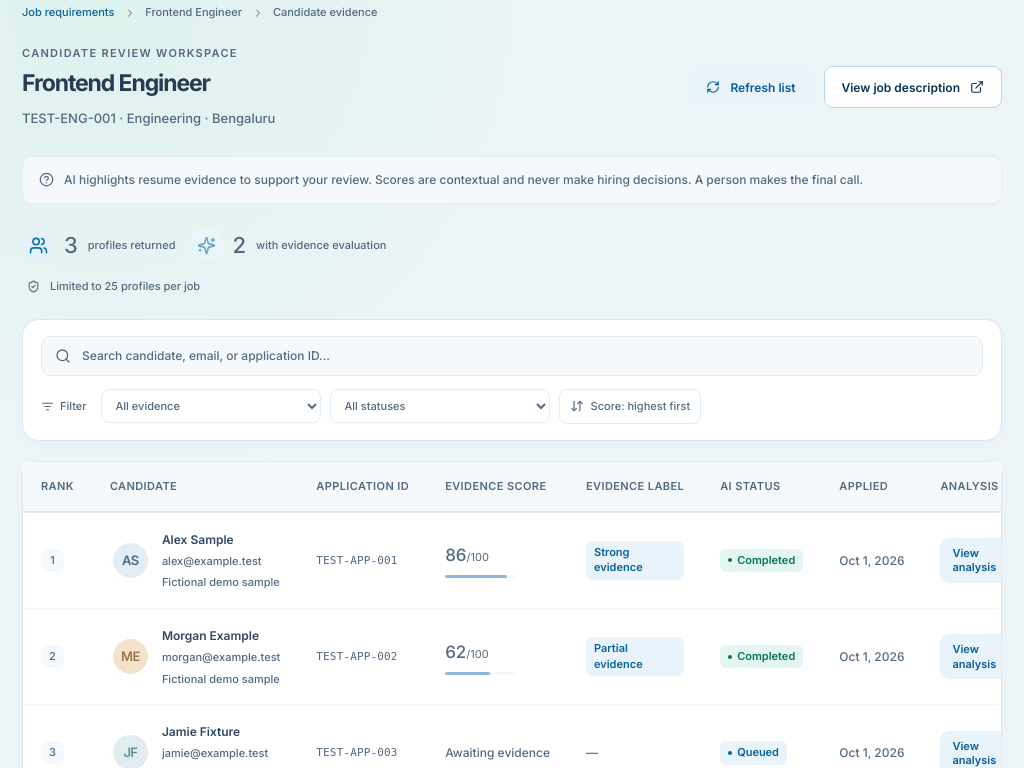
Test: job-scoped candidate ranking › combines candidate search with evidence-label and processing filters
The width and height of the screenshot is (1024, 768).
Expected: the link "Alex Sample" is shown, [162,532,234,547]
Type "morgan@example.test" into the field named "Search candidates" at (526, 356), box [82,346,969,365]
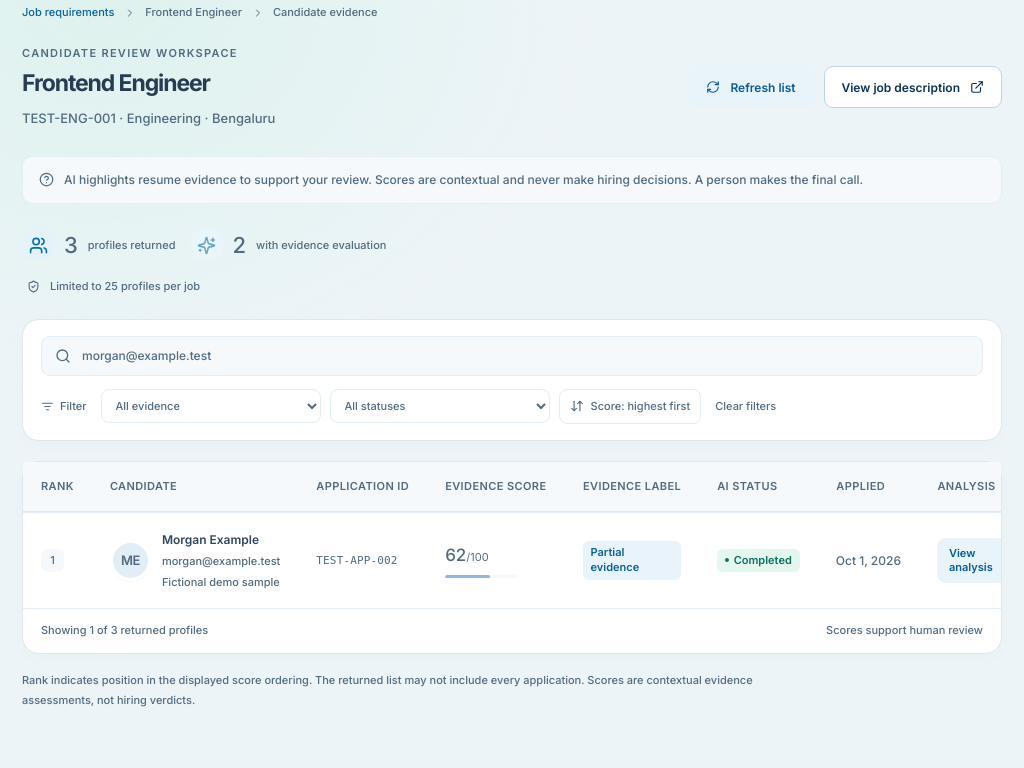
Select "Partial evidence" in the dropdown named "Filter match label" at (210, 406), box [100,389,320,423]
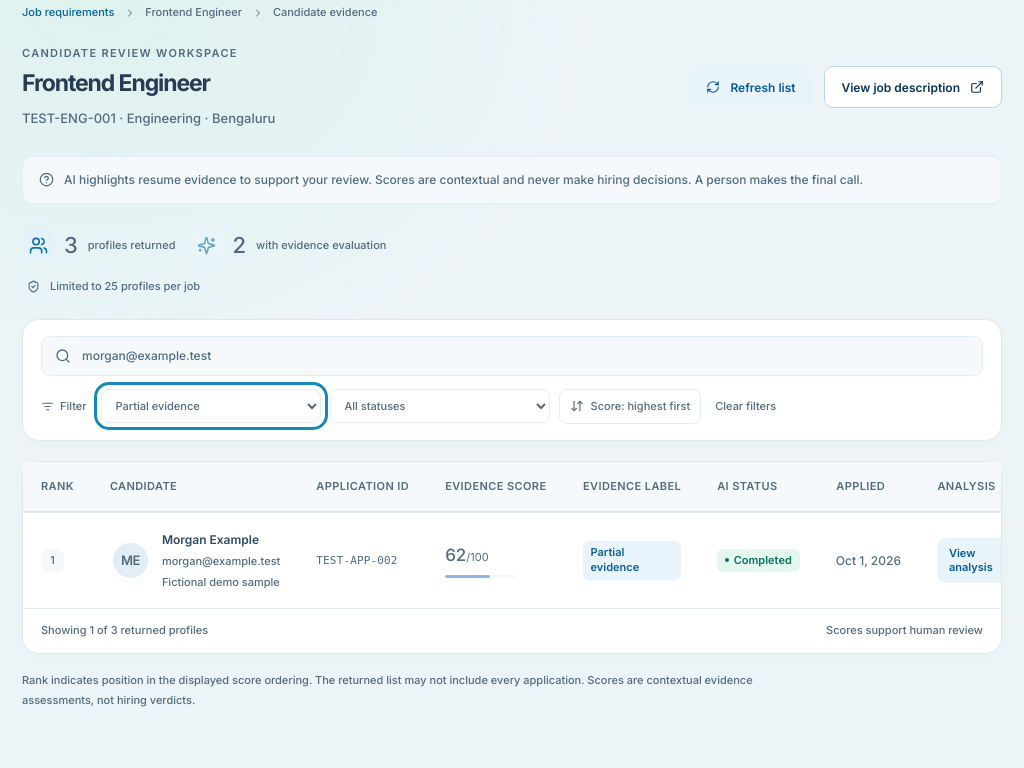
Select "completed" in the dropdown named "Filter AI status" at (440, 406), box [330,389,550,423]
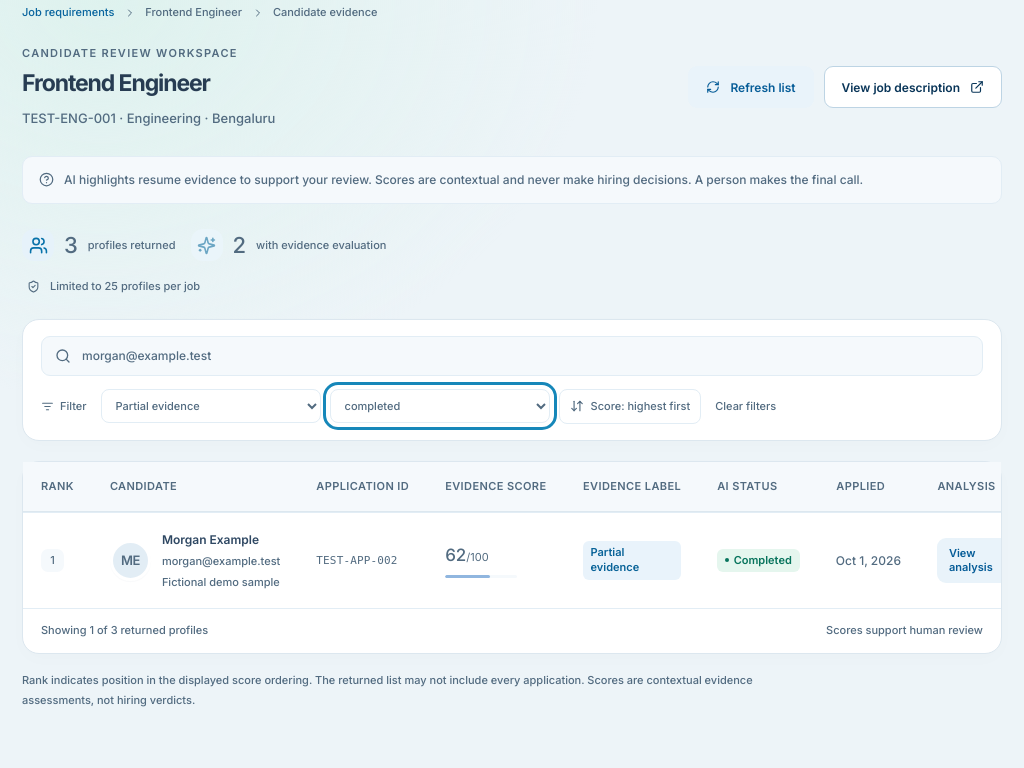
Expected: the link "Morgan Example" is shown, [162,532,259,547]
Result: the text "Showing 1 of 3 returned profiles" is shown at [41,622,208,640]
Select "queued" in the dropdown named "Filter AI status" at (440, 406), box [330,389,550,423]
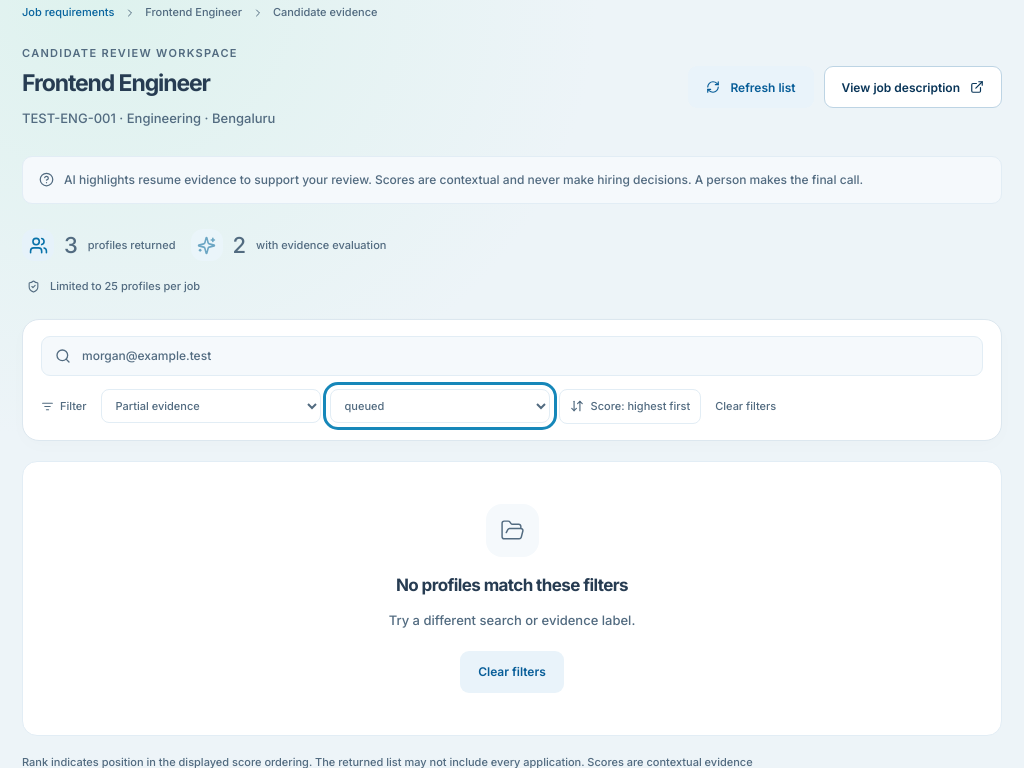
Result: the heading "No profiles match these filters" is shown at [396,574,628,596]
Click the 1st button "Clear filters" at (746, 406), box [710,390,781,422]
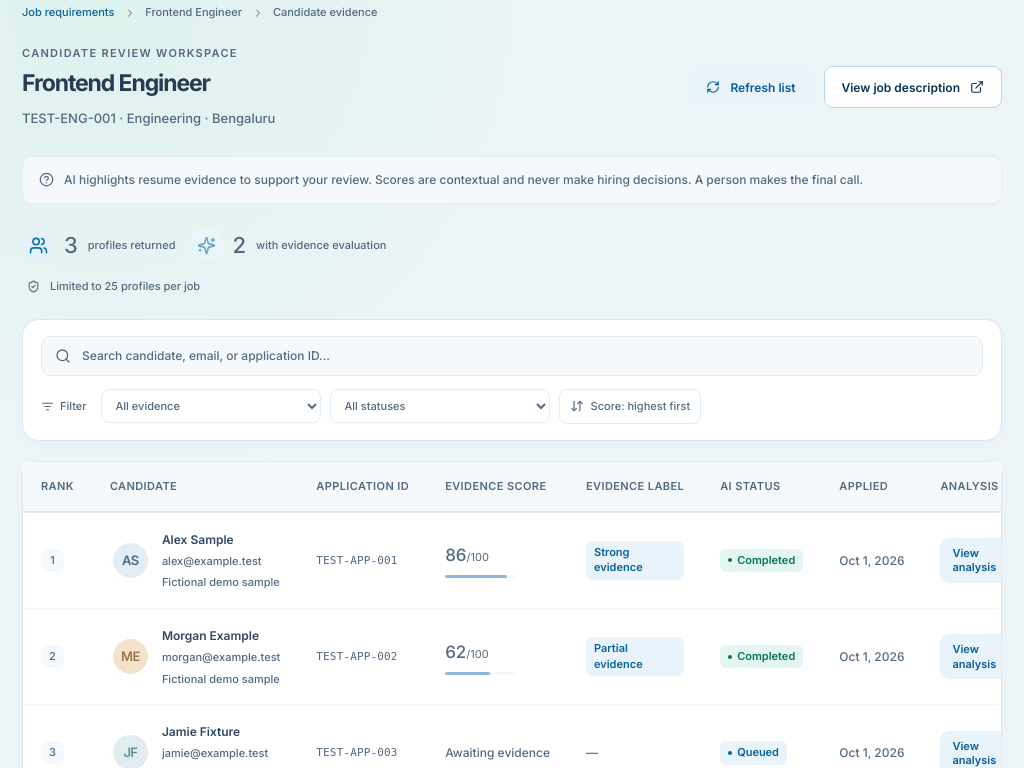
Result: the link "Alex Sample" is shown at [162,532,234,547]
Result: the link "Jamie Fixture" is shown at [162,724,240,739]
